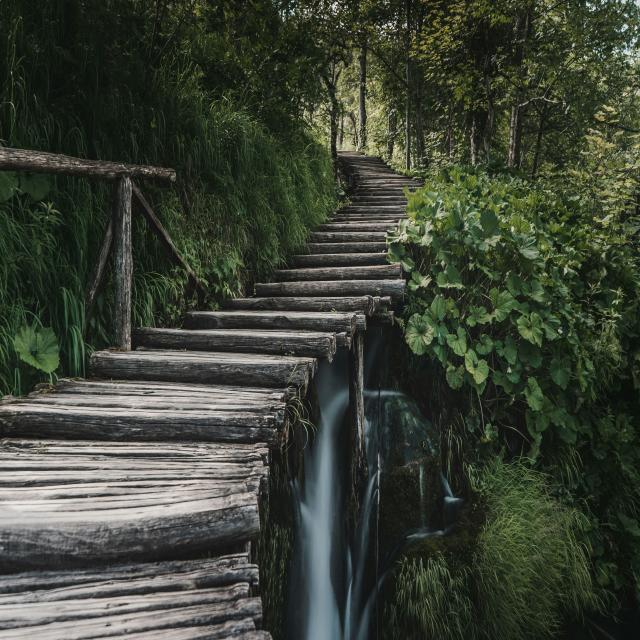Forest: (0, 3, 636, 636), (1, 7, 640, 636)
